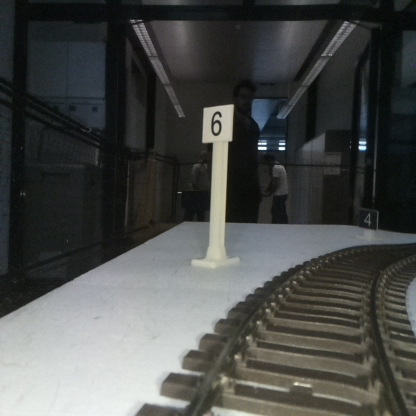black-stop-4: (358, 209, 377, 239)
white-info-6: (202, 104, 233, 267)
